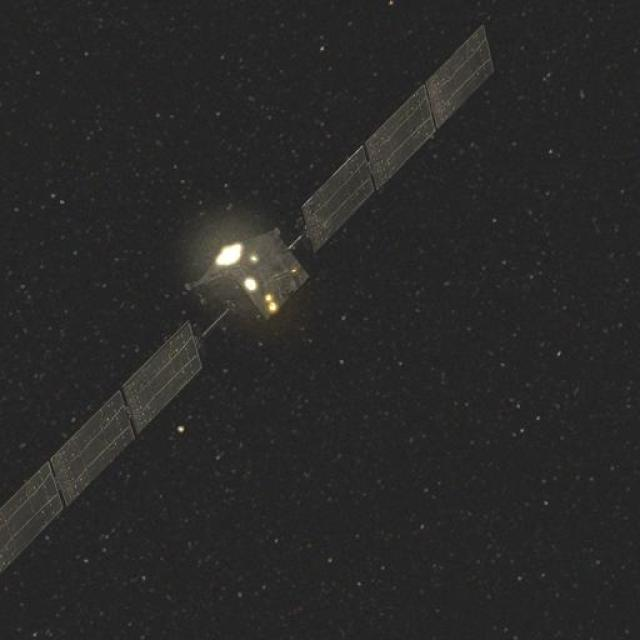smart_1: (111, 127, 396, 416)
